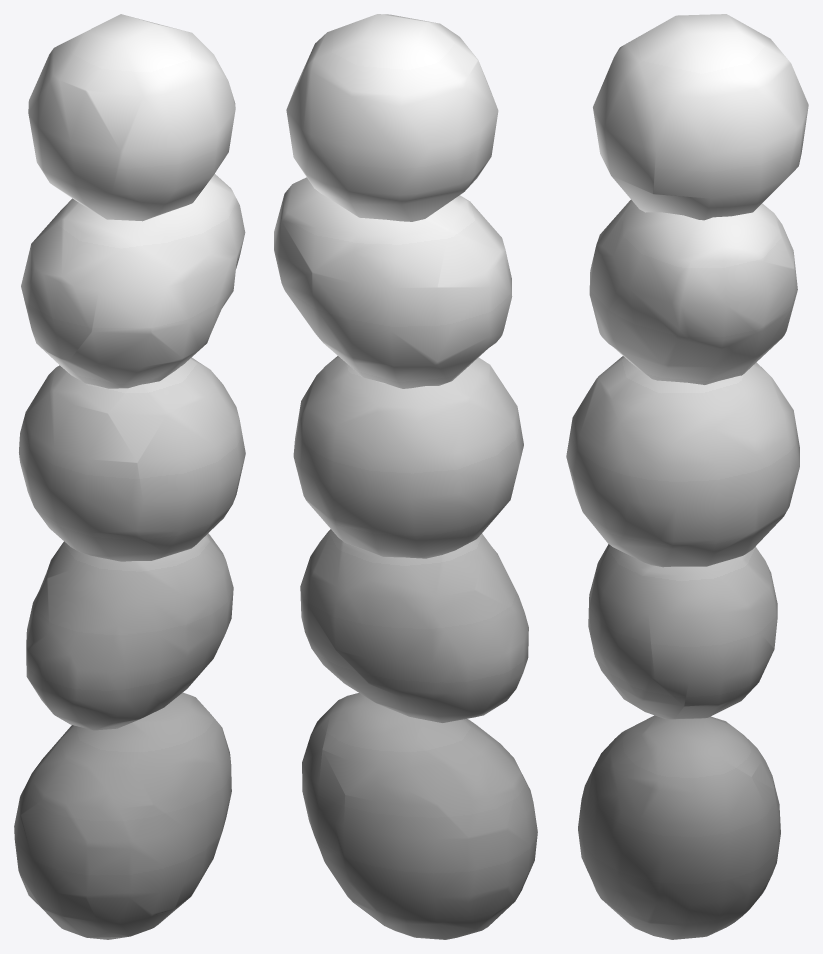
File: rumahasap.glb
The picture shows the model from 3 angles, left to right: view 1: azimuth 30°, elevation 25°; view 2: azimuth 150°, elevation 25°; view 3: azimuth 270°, elevation 25°; orthographic projection. The views are drawn at different scales.
Visible parts, largest first — view 1: Cube.011, Cube.008, Cube.006, Cube.007, Cube.009; view 2: Cube.011, Cube.008, Cube.007, Cube.006, Cube.009; view 3: Cube.008, Cube.011, Cube.006, Cube.007, Cube.009.
Part boxes in pixels (x1,y1,x2,y2): Cube.011: (14, 692, 231, 939); Cube.008: (19, 357, 245, 561); Cube.006: (28, 14, 235, 221); Cube.007: (21, 174, 245, 388); Cube.009: (26, 533, 233, 730); Cube.011: (302, 693, 537, 939); Cube.008: (293, 356, 523, 558); Cube.007: (274, 177, 512, 388); Cube.006: (286, 14, 498, 221); Cube.009: (300, 529, 528, 722); Cube.008: (566, 356, 799, 567); Cube.011: (578, 715, 780, 939); Cube.006: (593, 14, 808, 220); Cube.007: (589, 200, 797, 384); Cube.009: (588, 544, 777, 719).
Size of the model in its own units: 0.9759 by 3.75 by 0.8942.
1 material, 1 textured.
